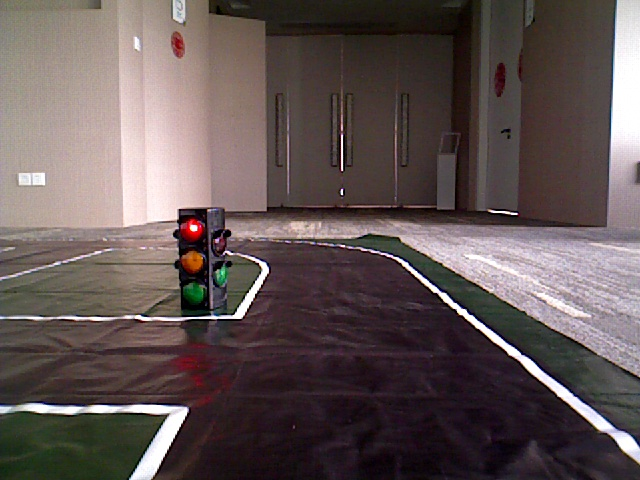red: (179, 207, 212, 308)
